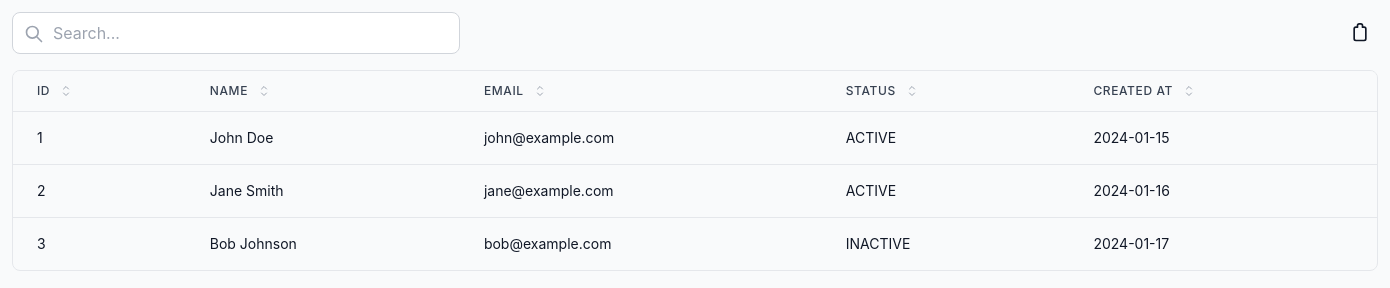
Test: DataTable › should sort data by column
Click the text "Name".
click(241, 91)  # box [210,83,272,99]
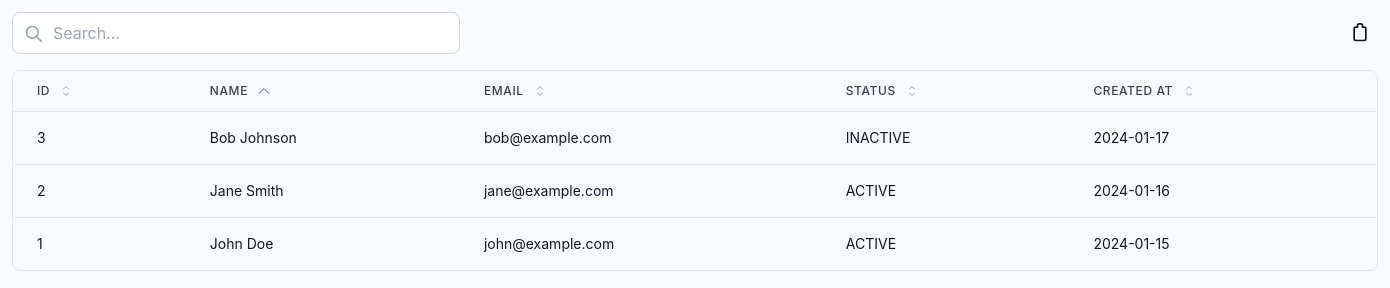
expect the row "3 Bob Johnson bob@example.com INACTIVE 2024-01-17" is shown: met, box [13,112,1377,164]
